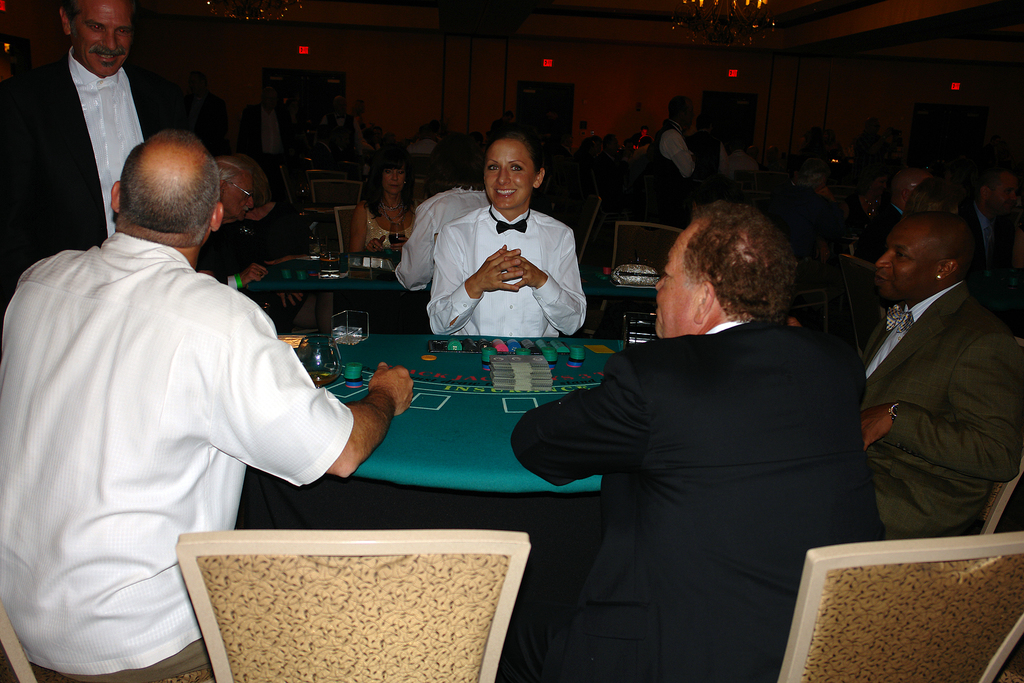Table: (276, 308, 618, 541), (253, 263, 653, 329)
